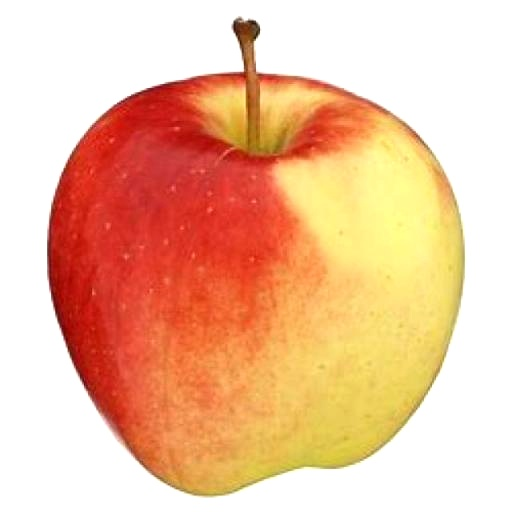fruit: (23, 127, 73, 421)
